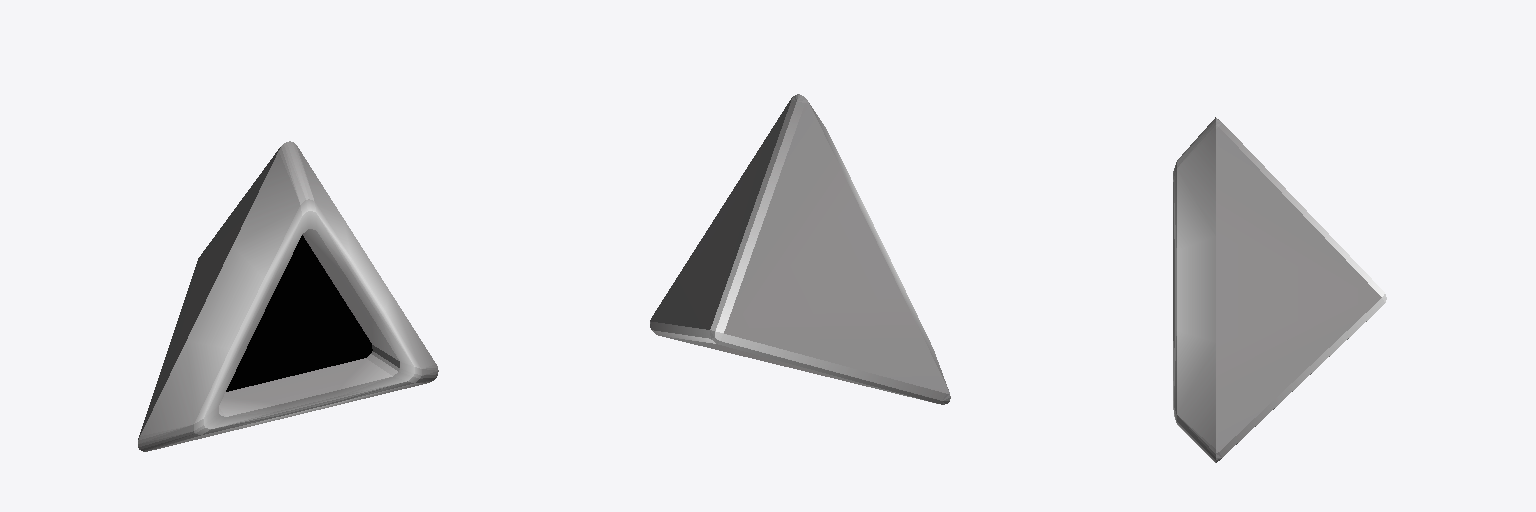
3 views of the same model, side by side, from view 1: azimuth 30°, elevation 25°; view 2: azimuth 150°, elevation 25°; view 3: azimuth 270°, elevation 25° (orthographic).
Parts seen in each view (by area): view 1: Gem_LOD1_Cylinder.007; view 2: Gem_LOD1_Cylinder.007; view 3: Gem_LOD1_Cylinder.007.
Part boxes in pixels (bbox=[...]): Gem_LOD1_Cylinder.007: bbox=[138, 141, 438, 451]; Gem_LOD1_Cylinder.007: bbox=[650, 94, 950, 404]; Gem_LOD1_Cylinder.007: bbox=[1173, 117, 1386, 462].
Size of the model in its own units: 0.2997 by 0.2623 by 0.1846.
2 materials, 1 textured.